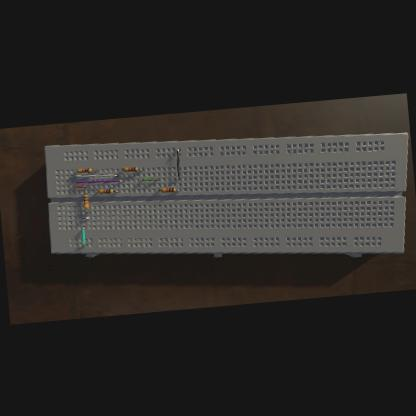breadboard: (40, 113, 416, 282)
resistor: (76, 166, 92, 172), (123, 166, 138, 172), (82, 194, 88, 208), (160, 186, 174, 192), (98, 187, 112, 193)
wire: (74, 176, 122, 184), (74, 170, 117, 178), (174, 148, 182, 179), (80, 227, 86, 245), (140, 177, 158, 181), (75, 184, 88, 186), (82, 216, 89, 218), (91, 169, 97, 171), (138, 168, 143, 170), (86, 208, 89, 211), (84, 190, 87, 193), (176, 189, 180, 190), (158, 188, 160, 190), (96, 190, 98, 191), (74, 170, 76, 171), (121, 169, 122, 170), (113, 190, 118, 190)
